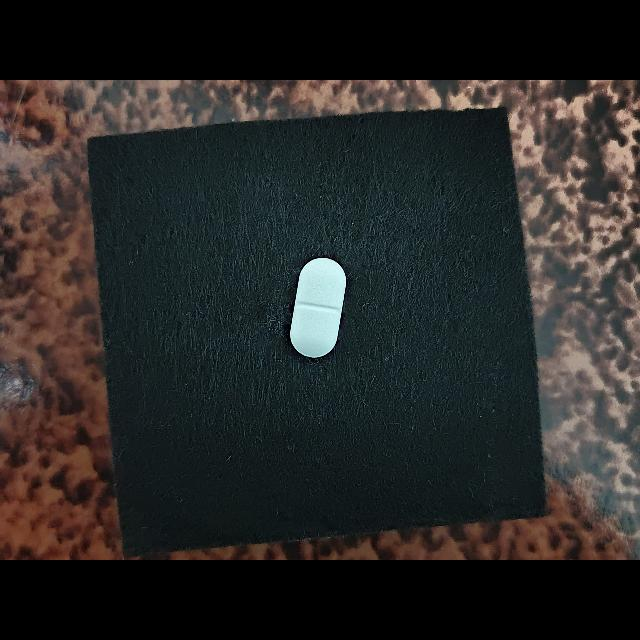Intact Pill: (290, 257, 347, 358)
